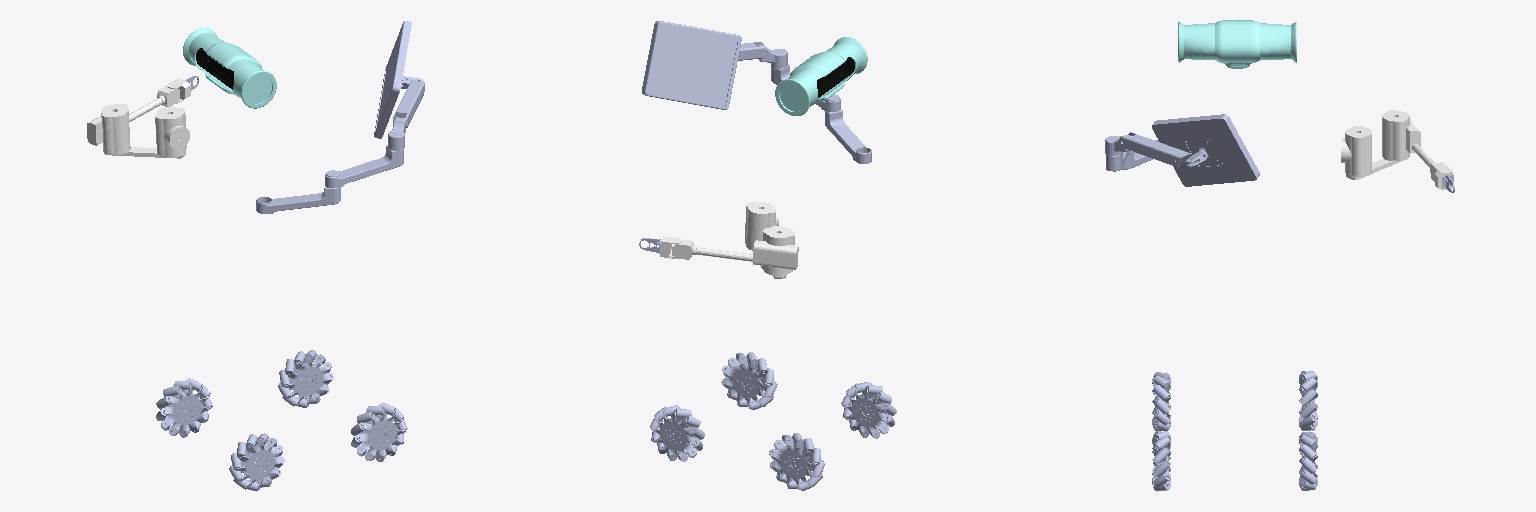
URDF robot description (FORTE_ROSv10):
<robot
  name="FORTE_ROSv10">
  <link
    name="base_link">
    <inertial>
      <origin
        xyz="-0.0427015017638332 0.006993249804152 0.313534344014149"
        rpy="0 0 0" />
      <mass
        value="34.5794030719526" />
      <inertia
        ixx="5.56933743883727"
        ixy="-0.00220642784653799"
        ixz="-1.00205671616163"
        iyy="6.05751738030707"
        iyz="0.159970635403109"
        izz="2.9580227711553" />
    </inertial>
    <visual>
      <origin
        xyz="0 0 0"
        rpy="0 0 0" />
      <geometry>
        <mesh
          filename="package://FORTE_ROSv10/meshes/base_link.STL" />
      </geometry>
      <material
        name="">
        <color
          rgba="0.498039215686275 0.756862745098039 1 1" />
      </material>
    </visual>
    <collision>
      <origin
        xyz="0 0 0"
        rpy="0 0 0" />
      <geometry>
        <mesh
          filename="package://FORTE_ROSv10/meshes/base_link.STL" />
      </geometry>
    </collision>
  </link>
  <link
    name="linkHead1">
    <inertial>
      <origin
        xyz="-0.00524567302970144 0.0295538501906324 0.0833195034430392"
        rpy="0 0 0" />
      <mass
        value="1.5255070290887" />
      <inertia
        ixx="0.0268521934825585"
        ixy="-0.000520704071832814"
        ixz="-2.66849307679222E-05"
        iyy="0.00530927354307168"
        iyz="9.51448654162142E-05"
        izz="0.0264128528187247" />
    </inertial>
    <visual>
      <origin
        xyz="0 0 0"
        rpy="0 0 0" />
      <geometry>
        <mesh
          filename="package://FORTE_ROSv10/meshes/linkHead1.STL" />
      </geometry>
      <material
        name="">
        <color
          rgba="0.752941176470588 1 1 1" />
      </material>
    </visual>
    <collision>
      <origin
        xyz="0 0 0"
        rpy="0 0 0" />
      <geometry>
        <mesh
          filename="package://FORTE_ROSv10/meshes/linkHead1.STL" />
      </geometry>
    </collision>
  </link>
  <joint
    name="jointHead1"
    type="revolute">
    <origin
      xyz="-0.17937 0.0083878 1.287"
      rpy="4.4601E-17 4.4601E-17 1.9892E-33" />
    <parent
      link="base_link" />
    <child
      link="linkHead1" />
    <axis
      xyz="0 0 -1" />
    <limit
      lower="-1.57"
      upper="1.57"
      effort="0"
      velocity="0" />
  </joint>
  <link
    name="linkHead2">
    <inertial>
      <origin
        xyz="0.0122337601350649 -0.00853994877497444 -0.195964611563498"
        rpy="0 0 0" />
      <mass
        value="0.459773515215341" />
      <inertia
        ixx="0.00480631815289146"
        ixy="4.71168157422321E-05"
        ixz="-2.8320001082072E-05"
        iyy="0.00443282064210696"
        iyz="5.17914840986153E-06"
        izz="0.000770334005814736" />
    </inertial>
    <visual>
      <origin
        xyz="0 0 0"
        rpy="0 0 0" />
      <geometry>
        <mesh
          filename="package://FORTE_ROSv10/meshes/linkHead2.STL" />
      </geometry>
      <material
        name="">
        <color
          rgba="0.101960784313725 0.101960784313725 0.101960784313725 1" />
      </material>
    </visual>
    <collision>
      <origin
        xyz="0 0 0"
        rpy="0 0 0" />
      <geometry>
        <mesh
          filename="package://FORTE_ROSv10/meshes/linkHead2.STL" />
      </geometry>
    </collision>
  </link>
  <joint
    name="jointHead2"
    type="revolute">
    <origin
      xyz="-0.01619 0.19355 0.086388"
      rpy="1.5708 0 3.1416" />
    <parent
      link="linkHead1" />
    <child
      link="linkHead2" />
    <axis
      xyz="0 0 -1" />
    <limit
      lower="-3.1415"
      upper="3.1415"
      effort="0"
      velocity="0" />
  </joint>
  <link
    name="linkArm1">
    <inertial>
      <origin
        xyz="0.137519677142391 -0.0880586267184263 0.0126705624819141"
        rpy="0 0 0" />
      <mass
        value="0.52178126714957" />
      <inertia
        ixx="0.00159650417378591"
        ixy="-0.00129764845899595"
        ixz="0.000868128161516552"
        iyy="0.00279209053244661"
        iyz="-0.000555892528941718"
        izz="0.00309238217079331" />
    </inertial>
    <visual>
      <origin
        xyz="0 0 0"
        rpy="0 0 0" />
      <geometry>
        <mesh
          filename="package://FORTE_ROSv10/meshes/linkArm1.STL" />
      </geometry>
      <material
        name="">
        <color
          rgba="0.792156862745098 0.819607843137255 0.933333333333333 1" />
      </material>
    </visual>
    <collision>
      <origin
        xyz="0 0 0"
        rpy="0 0 0" />
      <geometry>
        <mesh
          filename="package://FORTE_ROSv10/meshes/linkArm1.STL" />
      </geometry>
    </collision>
  </link>
  <joint
    name="jointArm1"
    type="revolute">
    <origin
      xyz="-0.21199 -0.253 0.99828"
      rpy="4.6841E-16 -2.039E-16 -9.0942E-33" />
    <parent
      link="base_link" />
    <child
      link="linkArm1" />
    <axis
      xyz="0 0 1" />
    <limit
      lower="-3.1415"
      upper="3.1415"
      effort="0"
      velocity="0" />
  </joint>
  <link
    name="linkArm2">
    <inertial>
      <origin
        xyz="0.161856869151376 -0.0216411009283777 0.0126705624819135"
        rpy="0 0 0" />
      <mass
        value="0.521781267149568" />
      <inertia
        ixx="0.000815760364692039"
        ixy="-0.000375345147743712"
        ixz="0.00102176287663821"
        iyy="0.00357283434154047"
        iyz="-0.000136614905758207"
        izz="0.0030923821707933" />
    </inertial>
    <visual>
      <origin
        xyz="0 0 0"
        rpy="0 0 0" />
      <geometry>
        <mesh
          filename="package://FORTE_ROSv10/meshes/linkArm2.STL" />
      </geometry>
      <material
        name="">
        <color
          rgba="0.792156862745098 0.819607843137255 0.933333333333333 1" />
      </material>
    </visual>
    <collision>
      <origin
        xyz="0 0 0"
        rpy="0 0 0" />
      <geometry>
        <mesh
          filename="package://FORTE_ROSv10/meshes/linkArm2.STL" />
      </geometry>
    </collision>
  </link>
  <joint
    name="jointArm2"
    type="revolute">
    <origin
      xyz="0.19454 -0.12457 0.1"
      rpy="-5.9631E-17 6.6646E-18 -2.8245E-33" />
    <parent
      link="linkArm1" />
    <child
      link="linkArm2" />
    <axis
      xyz="0 0 1" />
    <limit
      lower="-3.1415"
      upper="3.1415"
      effort="0"
      velocity="0" />
  </joint>
  <link
    name="linkArm3">
    <inertial>
      <origin
        xyz="0.0211330092766769 0.0229379805652743 -0.00669495307036283"
        rpy="0 0 0" />
      <mass
        value="0.130220464844418" />
      <inertia
        ixx="0.000107033303433906"
        ixy="4.02532802102327E-05"
        ixz="2.07266008103687E-05"
        iyy="0.000100427754969848"
        iyz="2.24970993904869E-05"
        izz="0.000129760868665658" />
    </inertial>
    <visual>
      <origin
        xyz="0 0 0"
        rpy="0 0 0" />
      <geometry>
        <mesh
          filename="package://FORTE_ROSv10/meshes/linkArm3.STL" />
      </geometry>
      <material
        name="">
        <color
          rgba="0.792156862745098 0.819607843137255 0.933333333333333 1" />
      </material>
    </visual>
    <collision>
      <origin
        xyz="0 0 0"
        rpy="0 0 0" />
      <geometry>
        <mesh
          filename="package://FORTE_ROSv10/meshes/linkArm3.STL" />
      </geometry>
    </collision>
  </link>
  <joint
    name="jointArm3"
    type="revolute">
    <origin
      xyz="0.22896 -0.030613 0.10263"
      rpy="-4.9304E-32 0 0" />
    <parent
      link="linkArm2" />
    <child
      link="linkArm3" />
    <axis
      xyz="0 0 -1" />
    <limit
      lower="-3.1415"
      upper="3.1415"
      effort="0"
      velocity="0" />
  </joint>
  <link
    name="linkArm4">
    <inertial>
      <origin
        xyz="0.127893041611719 0.00415145603266476 -0.0254000089650765"
        rpy="0 0 0" />
      <mass
        value="0.488565305397619" />
      <inertia
        ixx="0.00019583517969232"
        ixy="8.95909611935702E-05"
        ixz="-3.03885254565833E-10"
        iyy="0.00224154294516237"
        iyz="-1.71527701744608E-09"
        izz="0.00221295410866643" />
    </inertial>
    <visual>
      <origin
        xyz="0 0 0"
        rpy="0 0 0" />
      <geometry>
        <mesh
          filename="package://FORTE_ROSv10/meshes/linkArm4.STL" />
      </geometry>
      <material
        name="">
        <color
          rgba="0.792156862745098 0.819607843137255 0.933333333333333 1" />
      </material>
    </visual>
    <collision>
      <origin
        xyz="0 0 0"
        rpy="0 0 0" />
      <geometry>
        <mesh
          filename="package://FORTE_ROSv10/meshes/linkArm4.STL" />
      </geometry>
    </collision>
  </link>
  <joint
    name="jointArm4"
    type="revolute">
    <origin
      xyz="0.060043 0.027685 0.018308"
      rpy="1.5708 4.317E-16 0.82633" />
    <parent
      link="linkArm3" />
    <child
      link="linkArm4" />
    <axis
      xyz="0 0 1" />
    <limit
      lower="-3.1415"
      upper="3.1415"
      effort="0"
      velocity="0" />
  </joint>
  <link
    name="linkArm5">
    <inertial>
      <origin
        xyz="-0.0311422190528455 0.0027018189900877 0.00759997425023884"
        rpy="0 0 0" />
      <mass
        value="0.0359476099989269" />
      <inertia
        ixx="6.00968329175781E-06"
        ixy="-1.0689078968537E-06"
        ixz="7.58190306901134E-07"
        iyy="1.82369643300922E-05"
        iyz="-6.5773200390085E-08"
        izz="1.97519257310732E-05" />
    </inertial>
    <visual>
      <origin
        xyz="0 0 0"
        rpy="0 0 0" />
      <geometry>
        <mesh
          filename="package://FORTE_ROSv10/meshes/linkArm5.STL" />
      </geometry>
      <material
        name="">
        <color
          rgba="0.792156862745098 0.819607843137255 0.933333333333333 1" />
      </material>
    </visual>
    <collision>
      <origin
        xyz="0 0 0"
        rpy="0 0 0" />
      <geometry>
        <mesh
          filename="package://FORTE_ROSv10/meshes/linkArm5.STL" />
      </geometry>
    </collision>
  </link>
  <joint
    name="jointArm5"
    type="revolute">
    <origin
      xyz="0.28855 0.018659 -0.0254"
      rpy="1.9216 -1.5708 0" />
    <parent
      link="linkArm4" />
    <child
      link="linkArm5" />
    <axis
      xyz="0 0 -1" />
    <limit
      lower="-3.1415"
      upper="3.1415"
      effort="0"
      velocity="0" />
  </joint>
  <link
    name="linkArm6">
    <inertial>
      <origin
        xyz="0.0316695990014716 -0.00978471125129299 -0.0158750000000581"
        rpy="0 0 0" />
      <mass
        value="2.19388256283597" />
      <inertia
        ixx="0.0319634564810447"
        ixy="0.00354021329250803"
        ixz="1.9138618641279E-12"
        iyy="0.021598848827216"
        iyz="6.1944990152954E-12"
        izz="0.0128096578232169" />
    </inertial>
    <visual>
      <origin
        xyz="0 0 0"
        rpy="0 0 0" />
      <geometry>
        <mesh
          filename="package://FORTE_ROSv10/meshes/linkArm6.STL" />
      </geometry>
      <material
        name="">
        <color
          rgba="0.792156862745098 0.819607843137255 0.933333333333333 1" />
      </material>
    </visual>
    <collision>
      <origin
        xyz="0 0 0"
        rpy="0 0 0" />
      <geometry>
        <mesh
          filename="package://FORTE_ROSv10/meshes/linkArm6.STL" />
      </geometry>
    </collision>
  </link>
  <joint
    name="jointArm6"
    type="revolute">
    <origin
      xyz="-0.05517 0.020721 0.0063114"
      rpy="1.5708 0.031619 3.0551" />
    <parent
      link="linkArm5" />
    <child
      link="linkArm6" />
    <axis
      xyz="0 0 1" />
    <limit
      lower="-3.1415"
      upper="3.1415"
      effort="0"
      velocity="0" />
  </joint>
  <link
    name="linkMover1">
    <inertial>
      <origin
        xyz="1.46935904776768E-07 3.75433839572281E-09 0.0553614774712994"
        rpy="0 0 0" />
      <mass
        value="1.07577591240282" />
      <inertia
        ixx="0.00236780570277025"
        ixy="-7.29416194830103E-10"
        ixz="1.66508907668477E-09"
        iyy="0.00147909452427081"
        iyz="-4.08430094157573E-09"
        izz="0.0024022253053522" />
    </inertial>
    <visual>
      <origin
        xyz="0 0 0"
        rpy="0 0 0" />
      <geometry>
        <mesh
          filename="package://FORTE_ROSv10/meshes/linkMover1.STL" />
      </geometry>
      <material
        name="">
        <color
          rgba="1 1 1 1" />
      </material>
    </visual>
    <collision>
      <origin
        xyz="0 0 0"
        rpy="0 0 0" />
      <geometry>
        <mesh
          filename="package://FORTE_ROSv10/meshes/linkMover1.STL" />
      </geometry>
    </collision>
  </link>
  <joint
    name="jointMover1"
    type="revolute">
    <origin
      xyz="-0.18909 0.35589 0.97175"
      rpy="-1.5708 -0.054728 -2.4434E-18" />
    <parent
      link="base_link" />
    <child
      link="linkMover1" />
    <axis
      xyz="0 0 1" />
    <limit
      lower="-3.1415"
      upper="3.1415"
      effort="0"
      velocity="0" />
  </joint>
  <link
    name="linkMover2">
    <inertial>
      <origin
        xyz="-0.109712173862922 -0.127530552825393 0.0740589085016401"
        rpy="0 0 0" />
      <mass
        value="1.10341210319593" />
      <inertia
        ixx="0.00512558064538431"
        ixy="0.00140581492518557"
        ixz="-0.000829600286659806"
        iyy="0.00444265167962794"
        iyz="-0.000987934458509045"
        izz="0.00420201462734237" />
    </inertial>
    <visual>
      <origin
        xyz="0 0 0"
        rpy="0 0 0" />
      <geometry>
        <mesh
          filename="package://FORTE_ROSv10/meshes/linkMover2.STL" />
      </geometry>
      <material
        name="">
        <color
          rgba="1 1 1 1" />
      </material>
    </visual>
    <collision>
      <origin
        xyz="0 0 0"
        rpy="0 0 0" />
      <geometry>
        <mesh
          filename="package://FORTE_ROSv10/meshes/linkMover2.STL" />
      </geometry>
    </collision>
  </link>
  <joint
    name="jointMover2"
    type="revolute">
    <origin
      xyz="0 0.09 0.059428"
      rpy="1.5708 1.5708 0" />
    <parent
      link="linkMover1" />
    <child
      link="linkMover2" />
    <axis
      xyz="0 0 -1" />
    <limit
      lower="-3.1415"
      upper="3.1415"
      effort="0"
      velocity="0" />
  </joint>
  <link
    name="linkMover3">
    <inertial>
      <origin
        xyz="0.0320387094570084 -0.056504377980065 -0.0854443254258588"
        rpy="0 0 0" />
      <mass
        value="0.60277394217218" />
      <inertia
        ixx="0.00106895173132689"
        ixy="-0.00201558894505965"
        ixz="0.00042718924395512"
        iyy="0.00614562658385459"
        iyz="-0.000149172459831645"
        izz="0.00662559724791634" />
    </inertial>
    <visual>
      <origin
        xyz="0 0 0"
        rpy="0 0 0" />
      <geometry>
        <mesh
          filename="package://FORTE_ROSv10/meshes/linkMover3.STL" />
      </geometry>
      <material
        name="">
        <color
          rgba="1 1 1 1" />
      </material>
    </visual>
    <collision>
      <origin
        xyz="0 0 0"
        rpy="0 0 0" />
      <geometry>
        <mesh
          filename="package://FORTE_ROSv10/meshes/linkMover3.STL" />
      </geometry>
    </collision>
  </link>
  <joint
    name="jointMover3"
    type="revolute">
    <origin
      xyz="-0.12523 -0.14289 0"
      rpy="3.1416 2.1511E-16 1.5708" />
    <parent
      link="linkMover2" />
    <child
      link="linkMover3" />
    <axis
      xyz="0 0 -1" />
    <limit
      lower="-3.1415"
      upper="3.1415"
      effort="0"
      velocity="0" />
  </joint>
  <link
    name="linkMover4">
    <inertial>
      <origin
        xyz="-0.00471370104359026 0.032141013556892 -0.0299999999999931"
        rpy="0 0 0" />
      <mass
        value="0.104123308973718" />
      <inertia
        ixx="5.36406666702021E-05"
        ixy="2.86960003431456E-06"
        ixz="-2.07332826171092E-20"
        iyy="5.69629130489882E-05"
        iyz="1.84801478609902E-19"
        izz="4.20060793279251E-05" />
    </inertial>
    <visual>
      <origin
        xyz="0 0 0"
        rpy="0 0 0" />
      <geometry>
        <mesh
          filename="package://FORTE_ROSv10/meshes/linkMover4.STL" />
      </geometry>
      <material
        name="">
        <color
          rgba="1 1 1 1" />
      </material>
    </visual>
    <collision>
      <origin
        xyz="0 0 0"
        rpy="0 0 0" />
      <geometry>
        <mesh
          filename="package://FORTE_ROSv10/meshes/linkMover4.STL" />
      </geometry>
    </collision>
  </link>
  <joint
    name="jointMover4"
    type="revolute">
    <origin
      xyz="0.31394 -0.15636 -0.1"
      rpy="-3.1416 2.0562E-16 1.5708" />
    <parent
      link="linkMover3" />
    <child
      link="linkMover4" />
    <axis
      xyz="0 0 -1" />
    <limit
      lower="-3.1415"
      upper="3.1415"
      effort="0"
      velocity="0" />
  </joint>
  <link
    name="linkMover5">
    <inertial>
      <origin
        xyz="-0.0012569479954932 9.75948047088337E-06 0.0140865635793092"
        rpy="0 0 0" />
      <mass
        value="0.0185822649276052" />
      <inertia
        ixx="1.13384371359377E-05"
        ixy="5.18112897435647E-08"
        ixz="-3.85939019200042E-07"
        iyy="8.88163613154519E-06"
        iyz="2.36785849636554E-09"
        izz="4.71117256527195E-06" />
    </inertial>
    <visual>
      <origin
        xyz="0 0 0"
        rpy="0 0 0" />
      <geometry>
        <mesh
          filename="package://FORTE_ROSv10/meshes/linkMover5.STL" />
      </geometry>
      <material
        name="">
        <color
          rgba="0.792156862745098 0.819607843137255 0.933333333333333 1" />
      </material>
    </visual>
    <collision>
      <origin
        xyz="0 0 0"
        rpy="0 0 0" />
      <geometry>
        <mesh
          filename="package://FORTE_ROSv10/meshes/linkMover5.STL" />
      </geometry>
    </collision>
  </link>
  <joint
    name="jointMover5"
    type="revolute">
    <origin
      xyz="-0.017882 0.052012 -0.03"
      rpy="1.5708 -0.017882 -2.809" />
    <parent
      link="linkMover4" />
    <child
      link="linkMover5" />
    <axis
      xyz="0 0 1" />
    <limit
      lower="-3.1415"
      upper="3.1415"
      effort="0"
      velocity="0" />
  </joint>
  <link
    name="linkWheelLF">
    <inertial>
      <origin
        xyz="6.10622663543836E-16 -1.06387121334706E-13 -0.00263328767869575"
        rpy="0 0 0" />
      <mass
        value="0.52105146283316" />
      <inertia
        ixx="0.00178448696421567"
        ixy="1.0828469197699E-17"
        ixz="2.88949725725399E-16"
        iyy="0.00178448696421787"
        iyz="-1.90353714236459E-17"
        izz="0.00335486661519421" />
    </inertial>
    <visual>
      <origin
        xyz="0 0 0"
        rpy="0 0 0" />
      <geometry>
        <mesh
          filename="package://FORTE_ROSv10/meshes/linkWheelLF.STL" />
      </geometry>
      <material
        name="">
        <color
          rgba="0.792156862745098 0.819607843137255 0.933333333333333 1" />
      </material>
    </visual>
    <collision>
      <origin
        xyz="0 0 0"
        rpy="0 0 0" />
      <geometry>
        <mesh
          filename="package://FORTE_ROSv10/meshes/linkWheelLF.STL" />
      </geometry>
    </collision>
  </link>
  <joint
    name="jointWheelLF"
    type="continuous">
    <origin
      xyz="-0.2364 -0.24903 0.021003"
      rpy="1.5708 4.4601E-17 1.9892E-33" />
    <parent
      link="base_link" />
    <child
      link="linkWheelLF" />
    <axis
      xyz="0 0 -1" />
  </joint>
  <link
    name="linkWheelLB">
    <inertial>
      <origin
        xyz="9.59232693276135E-12 -1.21249954521119E-11 -0.00267525383575007"
        rpy="0 0 0" />
      <mass
        value="0.528619696269049" />
      <inertia
        ixx="0.00188182044155917"
        ixy="1.30629915313089E-13"
        ixz="-6.20398151079396E-14"
        iyy="0.00188182044162096"
        iyz="-5.03678166399551E-14"
        izz="0.00354238937504426" />
    </inertial>
    <visual>
      <origin
        xyz="0 0 0"
        rpy="0 0 0" />
      <geometry>
        <mesh
          filename="package://FORTE_ROSv10/meshes/linkWheelLB.STL" />
      </geometry>
      <material
        name="">
        <color
          rgba="0.792156862745098 0.819607843137255 0.933333333333333 1" />
      </material>
    </visual>
    <collision>
      <origin
        xyz="0 0 0"
        rpy="0 0 0" />
      <geometry>
        <mesh
          filename="package://FORTE_ROSv10/meshes/linkWheelLB.STL" />
      </geometry>
    </collision>
  </link>
  <joint
    name="jointWheelLB"
    type="continuous">
    <origin
      xyz="0.23668 -0.24903 0.021003"
      rpy="1.5708 4.4601E-17 1.9892E-33" />
    <parent
      link="base_link" />
    <child
      link="linkWheelLB" />
    <axis
      xyz="0 0 1" />
  </joint>
  <link
    name="linkWheelRB">
    <inertial>
      <origin
        xyz="5.24580379135386E-14 -9.25648446781224E-14 -0.00263328767869583"
        rpy="0 0 0" />
      <mass
        value="0.52105146283316" />
      <inertia
        ixx="0.00178448696421616"
        ixy="9.26715030668407E-16"
        ixz="1.9785588505029E-16"
        iyy="0.0017844869642173"
        iyz="1.46420973998575E-16"
        izz="0.00335486661519417" />
    </inertial>
    <visual>
      <origin
        xyz="0 0 0"
        rpy="0 0 0" />
      <geometry>
        <mesh
          filename="package://FORTE_ROSv10/meshes/linkWheelRB.STL" />
      </geometry>
      <material
        name="">
        <color
          rgba="0.792156862745098 0.819607843137255 0.933333333333333 1" />
      </material>
    </visual>
    <collision>
      <origin
        xyz="0 0 0"
        rpy="0 0 0" />
      <geometry>
        <mesh
          filename="package://FORTE_ROSv10/meshes/linkWheelRB.STL" />
      </geometry>
    </collision>
  </link>
  <joint
    name="jointWheelRB"
    type="continuous">
    <origin
      xyz="0.23668 0.24903 0.021003"
      rpy="1.5708 -4.4601E-17 -3.1416" />
    <parent
      link="base_link" />
    <child
      link="linkWheelRB" />
    <axis
      xyz="0 0 -1" />
  </joint>
  <link
    name="linkWheelRF">
    <inertial>
      <origin
        xyz="1.54348062109122E-11 -8.85069795231175E-13 -0.00267525383574992"
        rpy="0 0 0" />
      <mass
        value="0.528619696269044" />
      <inertia
        ixx="0.00188182044172336"
        ixy="1.53443766625557E-14"
        ixz="-3.60177668168021E-15"
        iyy="0.00188182044145666"
        iyz="-7.98434500551979E-14"
        izz="0.00354238937504418" />
    </inertial>
    <visual>
      <origin
        xyz="0 0 0"
        rpy="0 0 0" />
      <geometry>
        <mesh
          filename="package://FORTE_ROSv10/meshes/linkWheelRF.STL" />
      </geometry>
      <material
        name="">
        <color
          rgba="0.792156862745098 0.819607843137255 0.933333333333333 1" />
      </material>
    </visual>
    <collision>
      <origin
        xyz="0 0 0"
        rpy="0 0 0" />
      <geometry>
        <mesh
          filename="package://FORTE_ROSv10/meshes/linkWheelRF.STL" />
      </geometry>
    </collision>
  </link>
  <joint
    name="jointWheelRF"
    type="continuous">
    <origin
      xyz="-0.23639811273748 0.24903430002539 0.0241782000000166"
      rpy="1.5707963267949 -4.46008744814788E-17 -3.14159265358979" />
    <parent
      link="base_link" />
    <child
      link="linkWheelRF" />
    <axis
      xyz="0 0 1" />
  </joint>
</robot>

--- Render facts (derived) ---
Views: 3 orthographic renders of the robot side by side, from view 1: azimuth 30°, elevation 25°; view 2: azimuth 150°, elevation 25°; view 3: azimuth 270°, elevation 25°.
Robot: FORTE_ROSv10 — 18 links, 17 joints (13 revolute, 4 continuous); root link base_link; default pose: every joint at zero.
Visible links, largest first — view 1: linkHead1, linkWheelLB, linkWheelRF, linkWheelLF, linkWheelRB, linkArm6, linkMover2, linkMover1, linkArm1, linkArm2, linkMover3, linkArm4 (+1 smaller); view 2: linkArm6, linkHead1, linkWheelRF, linkWheelLB, linkWheelLF, linkWheelRB, linkMover3, linkArm1, linkMover1, linkMover2, linkHead2; view 3: linkArm6, linkHead1, linkMover2, linkMover1, linkArm4, linkWheelLB, linkWheelRF, linkWheelRB, linkWheelLF, linkMover3.
Link boxes in pixels (x1,y1,x2,y2): linkHead1: [183, 28, 276, 108]; linkWheelLB: [351, 403, 407, 461]; linkWheelRF: [156, 378, 212, 437]; linkWheelLF: [229, 433, 284, 491]; linkWheelRB: [278, 350, 333, 407]; linkArm6: [374, 21, 411, 138]; linkMover2: [101, 104, 185, 158]; linkMover1: [155, 107, 189, 155]; linkArm1: [256, 170, 340, 213]; linkArm2: [325, 145, 403, 188]; linkMover3: [87, 86, 179, 145]; linkArm4: [393, 80, 424, 127]; linkArm6: [642, 21, 741, 109]; linkHead1: [775, 37, 867, 115]; linkWheelRF: [769, 433, 824, 490]; linkWheelLB: [721, 352, 777, 409]; linkWheelLF: [841, 382, 896, 438]; linkWheelRB: [650, 405, 704, 461]; linkMover3: [670, 239, 798, 269]; linkArm1: [825, 95, 871, 163]; linkMover1: [745, 202, 778, 248]; linkMover2: [746, 226, 794, 278]; linkHead2: [817, 57, 854, 97]; linkArm6: [1152, 114, 1259, 186]; linkHead1: [1178, 20, 1296, 68]; linkMover2: [1345, 110, 1409, 179]; linkMover1: [1341, 126, 1371, 176]; linkArm4: [1120, 132, 1190, 167]; linkWheelLB: [1152, 431, 1170, 491]; linkWheelRF: [1299, 371, 1317, 430]; linkWheelRB: [1299, 432, 1317, 490]; linkWheelLF: [1152, 372, 1170, 430]; linkMover3: [1406, 121, 1445, 181].
Size in the robot's own frame: 0.9116 by 1.17 by 1.53 metres.
Meshes: 18 distinct files referenced, 17 mesh visuals loaded (17 binary STL); not drawn: 1 (reference not matched to a file when rendering).
